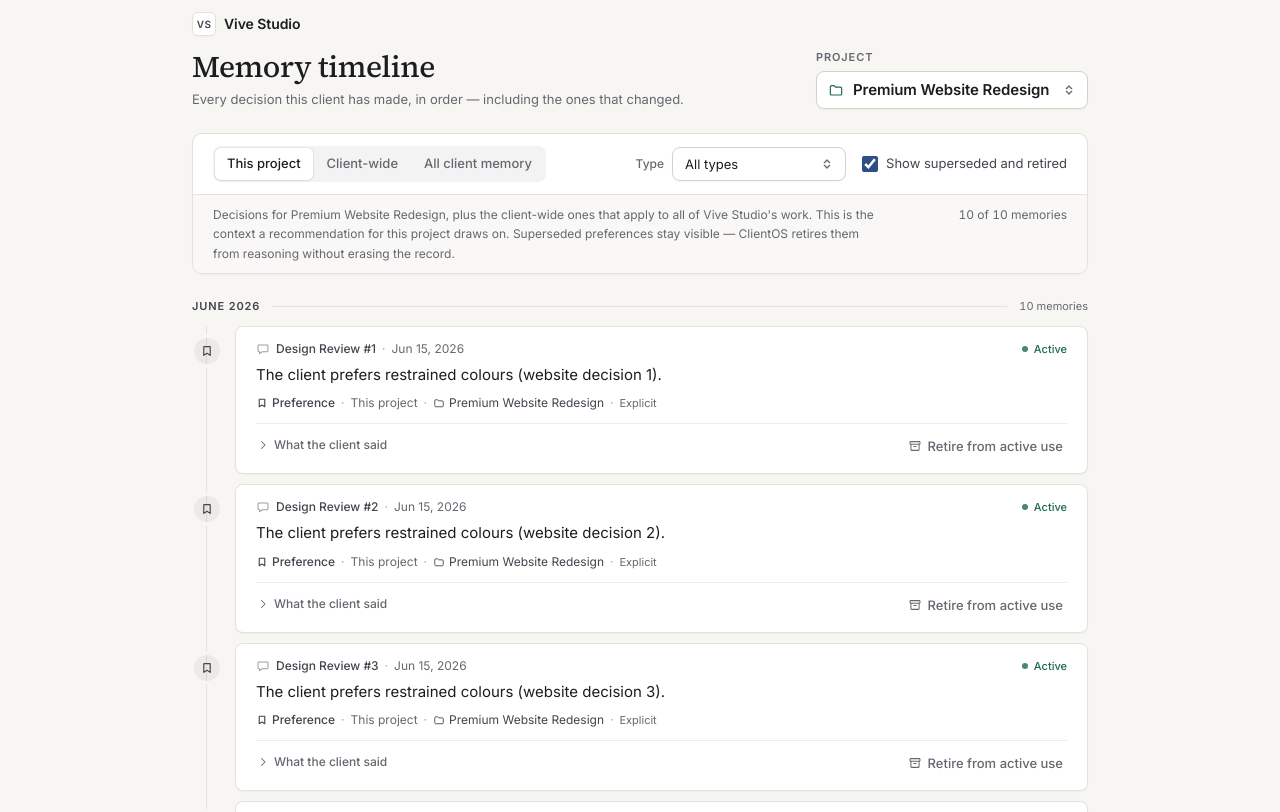
Test: MemoryTimeline — active project › switching project switches the memories shown
expect the text "The client prefers restrained colours (website decision 1)." is shown: met, box [256, 365, 662, 384]
Select "Mobile App" in the dropdown labelled "Project": (952, 90) [816, 71, 1088, 109]
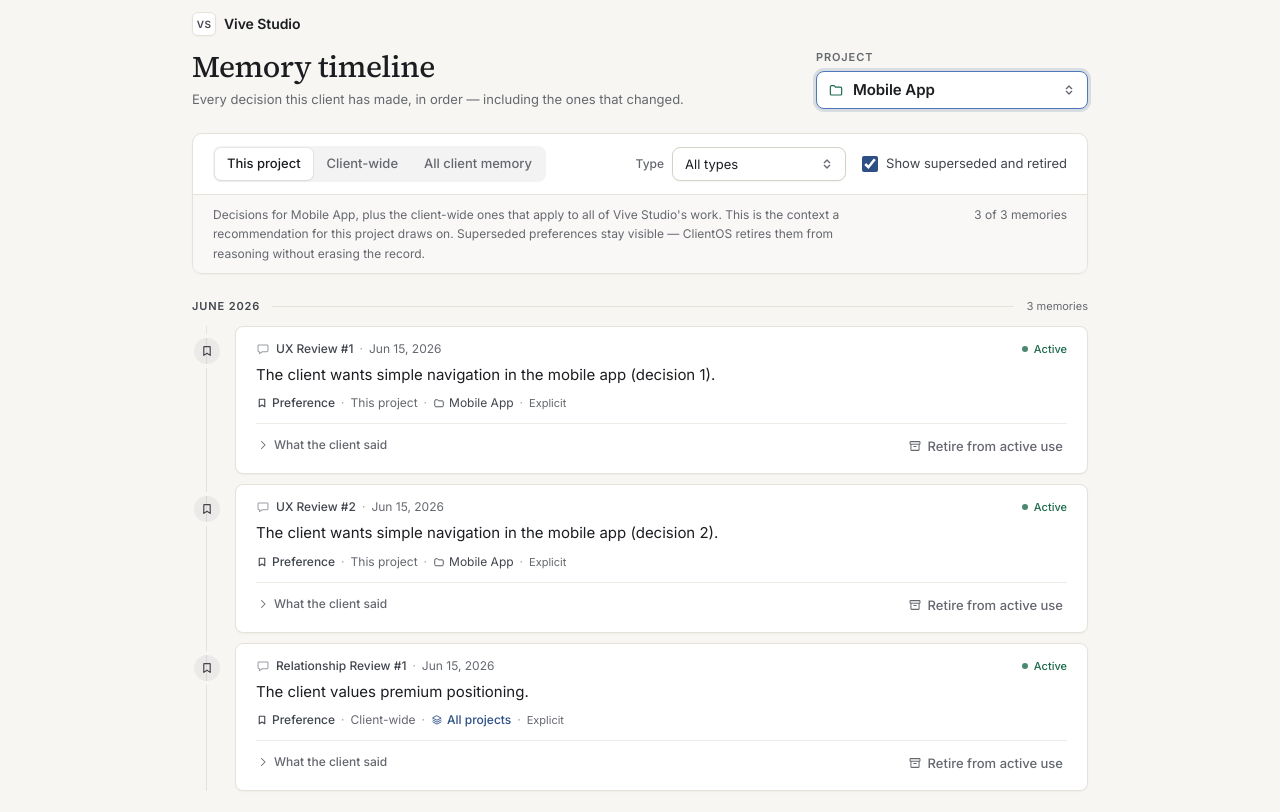
expect the text "mobile app (decision 1)" is shown: met, box [256, 365, 715, 384]
expect the text "website decision 1" is gone: met
